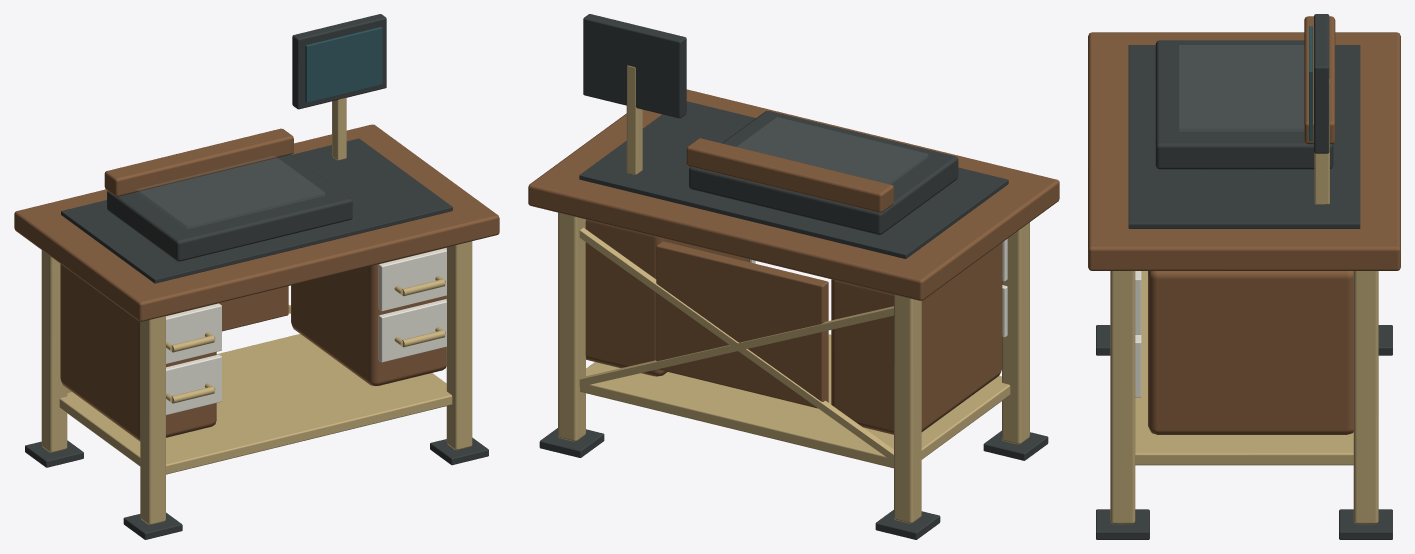
File: city-courthouse-and-records-office-city-courthouse-and-c9feae8a__30993.glb
3 renders of one model, left to right at view 1: azimuth 30°, elevation 25°; view 2: azimuth 150°, elevation 25°; view 3: azimuth 270°, elevation 25°, orthographic. The views are drawn at different scales.
Visible parts, largest first — view 1: city-courthouse-and-records-office-document-scanning-station (×5); view 2: city-courthouse-and-records-office-document-scanning-station (×3); view 3: city-courthouse-and-records-office-document-scanning-station (×5).
Boxes of the visible parts, left/top/right/bottom form: city-courthouse-and-records-office-document-scanning-station (×5): left=14, top=14, right=499, bottom=539; city-courthouse-and-records-office-document-scanning-station (×3): left=528, top=14, right=1059, bottom=539; city-courthouse-and-records-office-document-scanning-station (×5): left=1088, top=14, right=1400, bottom=539.
Bounding box in the file's own units: 1.33 × 1.33 × 0.8101.
